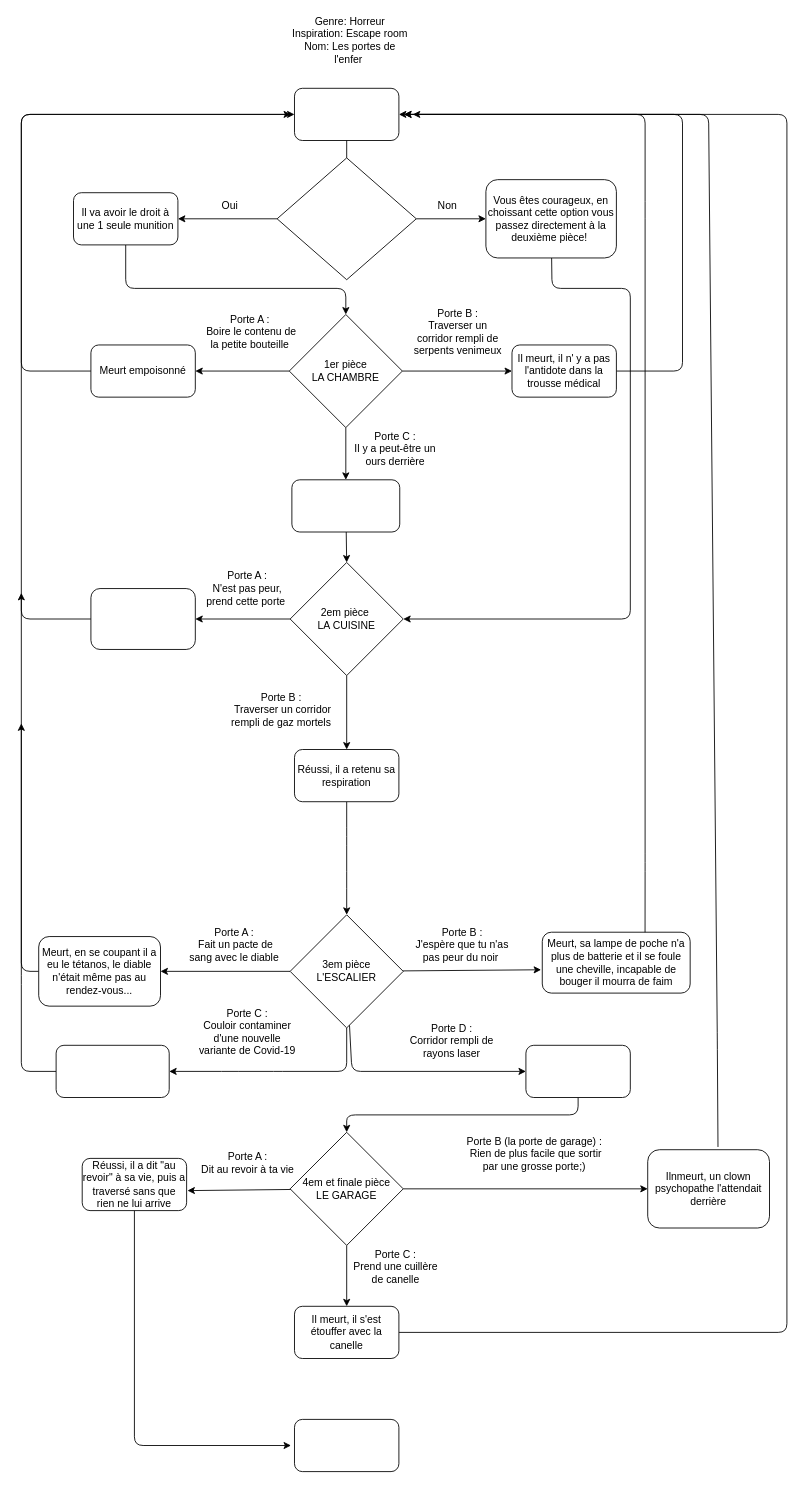
This 809x1487 diagram has some shape labels left out. Each missing label, with the centre of its shape:
"Bravo! Vous l'avez aider à s'enfuire de ce cauchemar!" belongs at point 346,1445.
"Il meurt par un shock nerveux. Dans le corridor s'y trouvait sa plus grande peur" belongs at point 142,618.
"Il meurt, la nouvelle variante ne laisse pas de chance" belongs at point 112,1071.
"Il réussi, tu le tires avec ton arme à feu" belongs at point 345,505.
"Prend-t-il un arme à feu?" belongs at point 346,218.
"Réussi, il a été bien agile!" belongs at point 577,1071.
"Réveille" belongs at point 346,114.
